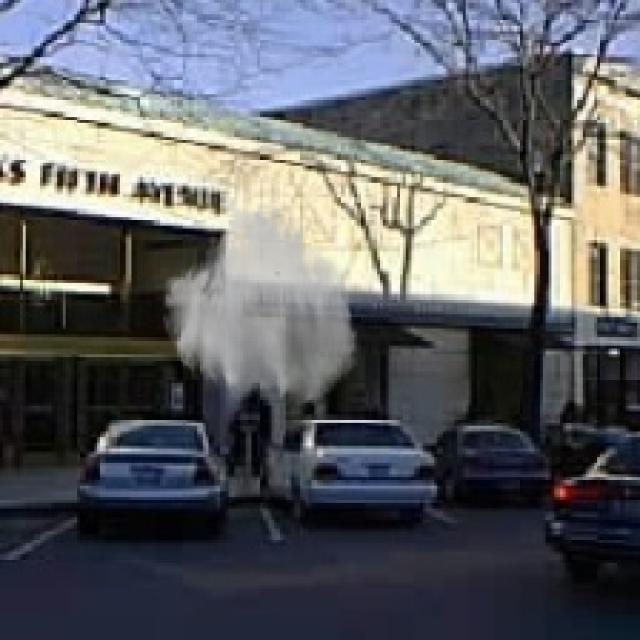Smoke: (160, 194, 360, 409)
